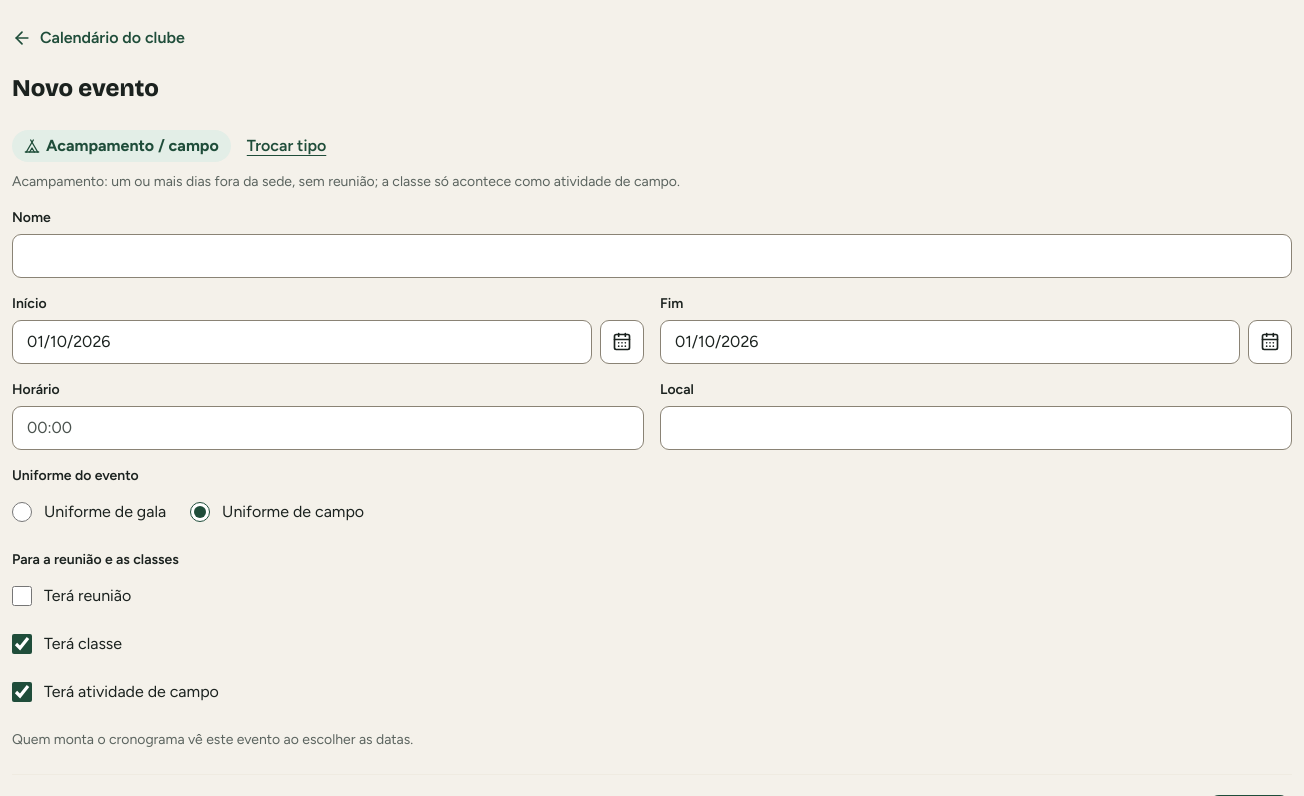
Scenario: A6 · criar › as três caixas seguem o padrão do tipo e a gravação leva o que está marcado
The width and height of the screenshot is (1304, 796).
Type "Acampamento de unidades" into the field labelled "Nome" at (652, 256), box left=12, top=234, right=1292, bottom=278
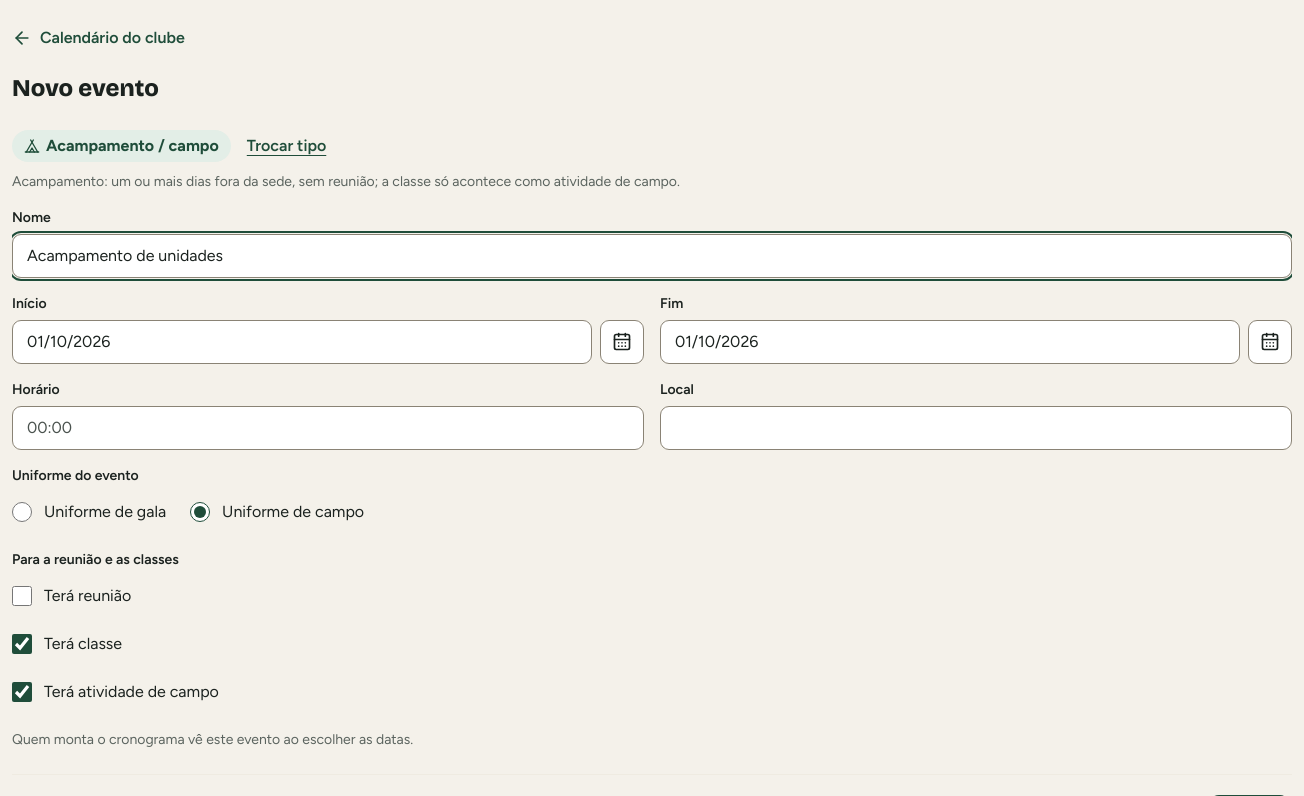
Expected: the checkbox labelled "Terá classe" is checked, left=12, top=634, right=32, bottom=654
Expected: the checkbox labelled "Terá atividade de campo" is checked, left=12, top=682, right=32, bottom=702
Click the checkbox labelled "Terá reunião" at (22, 596), box left=12, top=586, right=32, bottom=606
(page scrolled)
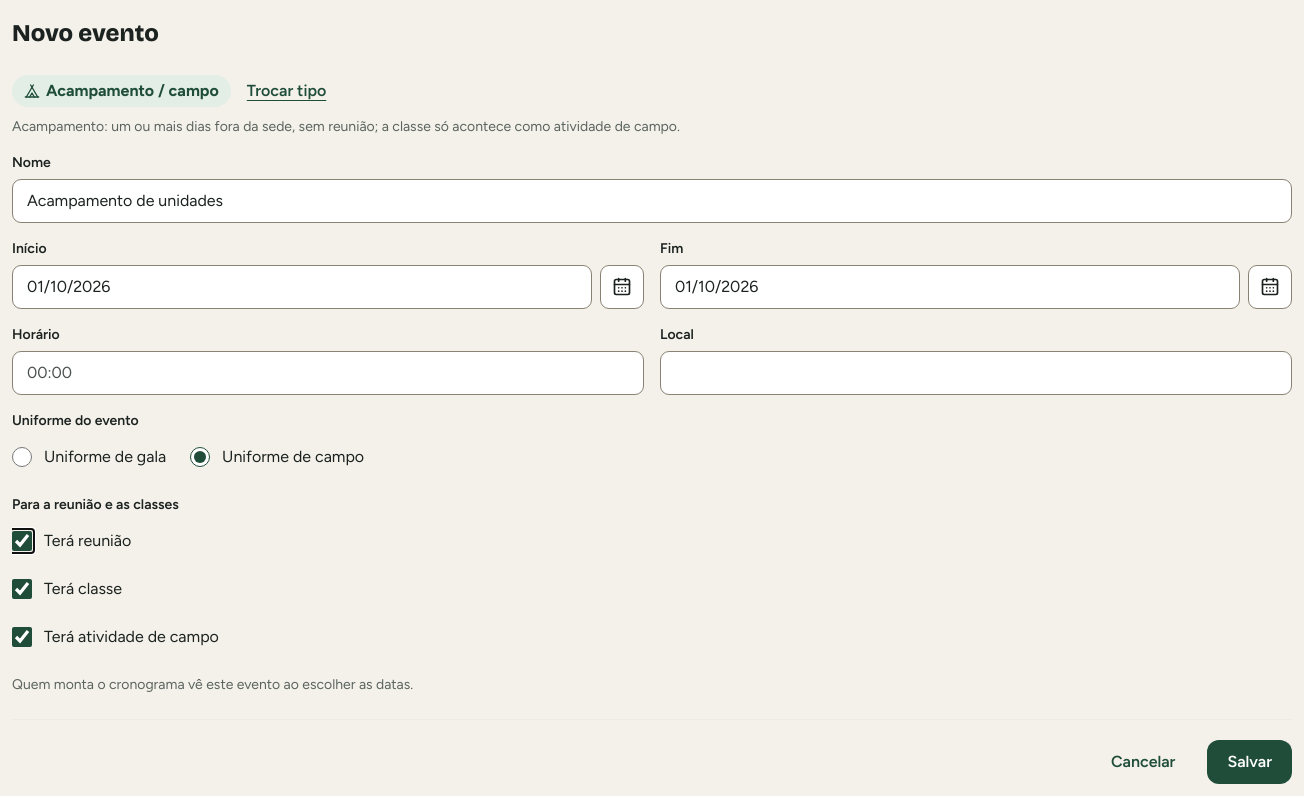
Click the button "Salvar" at (1250, 762), box left=1207, top=740, right=1292, bottom=784
(page scrolled)
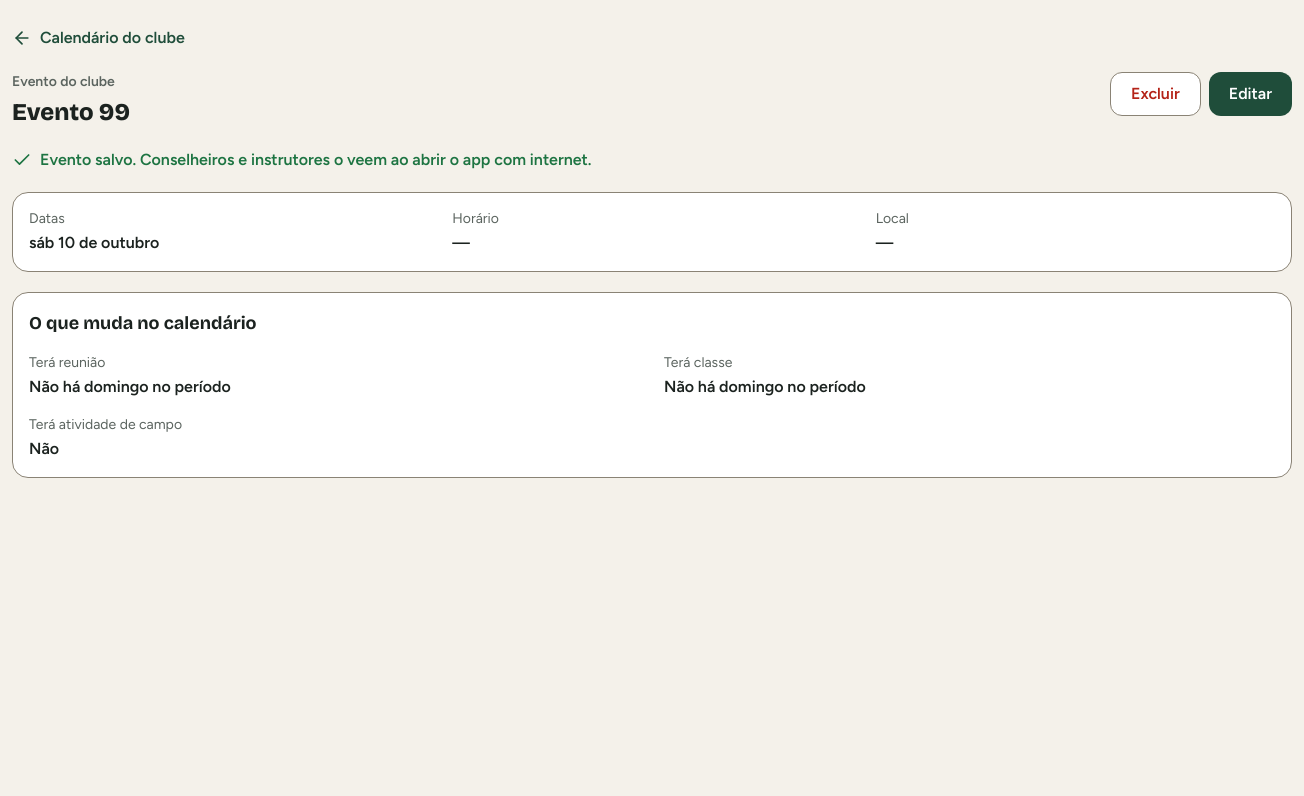
Now the heading "Evento 99" is shown, box left=12, top=96, right=130, bottom=128
